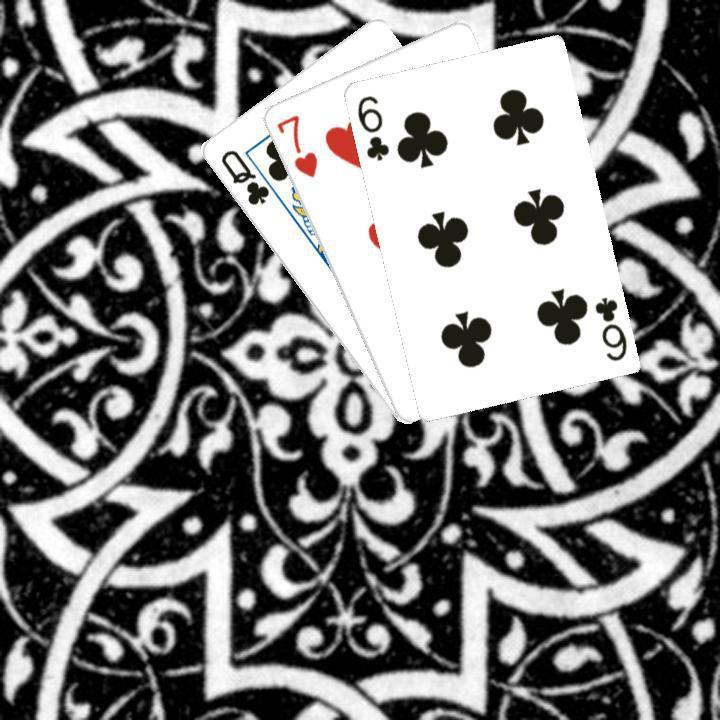6: (589, 292, 629, 363), (352, 91, 391, 162)
7: (271, 109, 320, 180)
Q: (215, 145, 271, 207)
